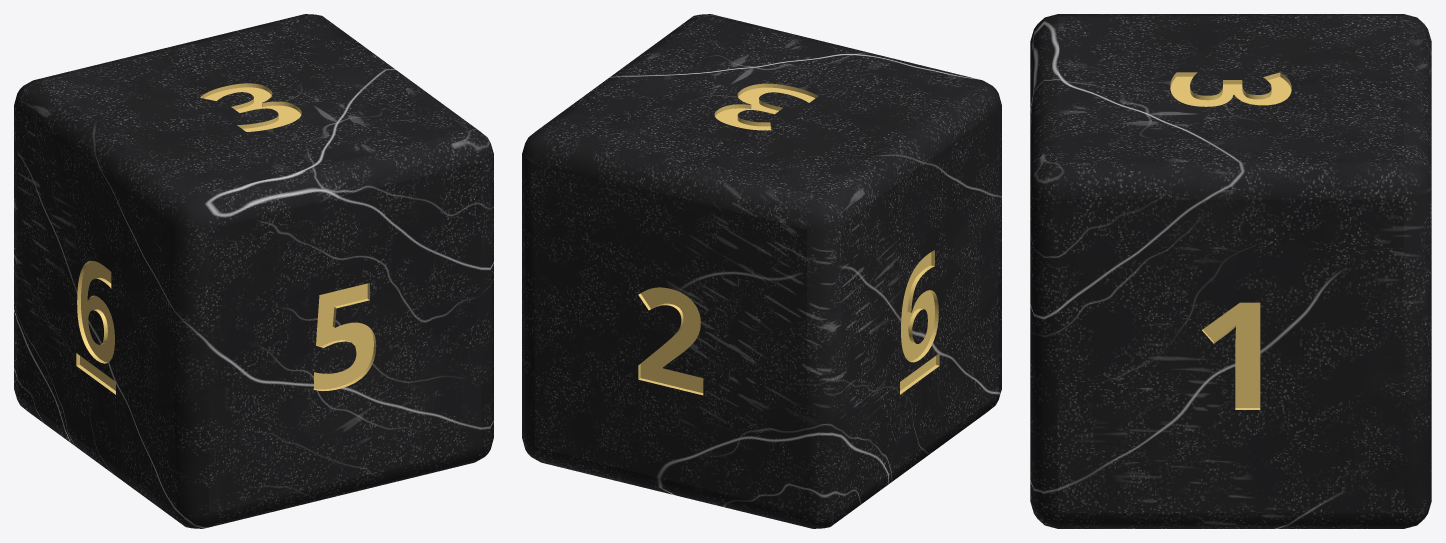
3 renders of one model, left to right at view 1: azimuth 30°, elevation 25°; view 2: azimuth 150°, elevation 25°; view 3: azimuth 270°, elevation 25°, orthographic. The views are drawn at different scales.
Parts seen in each view (by area): view 1: body.001; view 2: body.001; view 3: body.001.
Boxes of the visible parts, x1,y1,x2,y2 form: body.001: (14,14,493,528); body.001: (522,14,1001,528); body.001: (1030,14,1431,528).
Size of the model in its own units: 0.5774 by 0.5774 by 0.5774.
2 materials, 1 textured.
